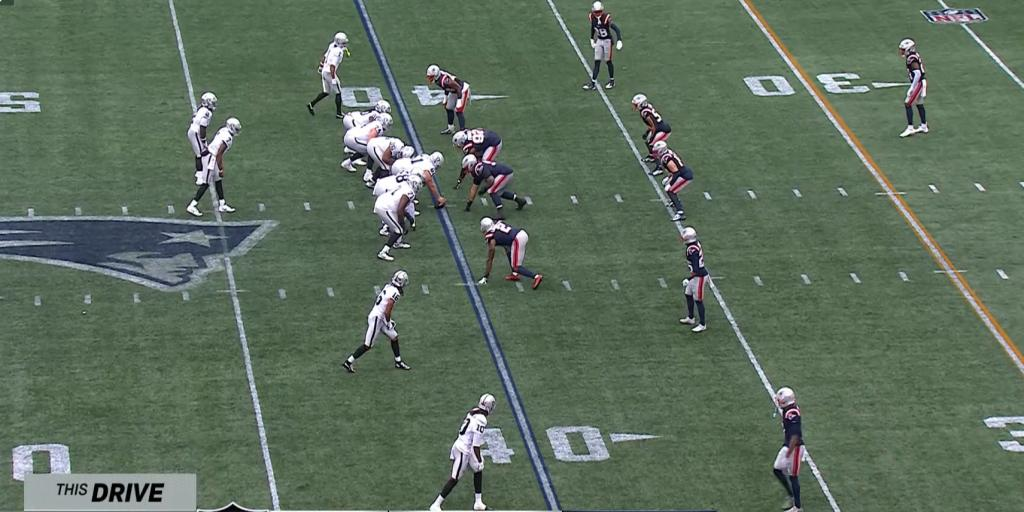player: (430, 393, 494, 509), (343, 270, 410, 371), (187, 118, 241, 215), (478, 217, 542, 289), (373, 177, 421, 260), (462, 154, 524, 217), (773, 388, 804, 511), (582, 0, 622, 88), (307, 32, 347, 116), (653, 141, 692, 219), (426, 65, 470, 133), (680, 227, 708, 332), (899, 38, 928, 137), (361, 137, 414, 191), (631, 94, 670, 161), (188, 92, 217, 177), (397, 151, 444, 202), (344, 114, 391, 157), (452, 129, 500, 159), (343, 100, 390, 130), (342, 158, 354, 171), (456, 171, 464, 188)
